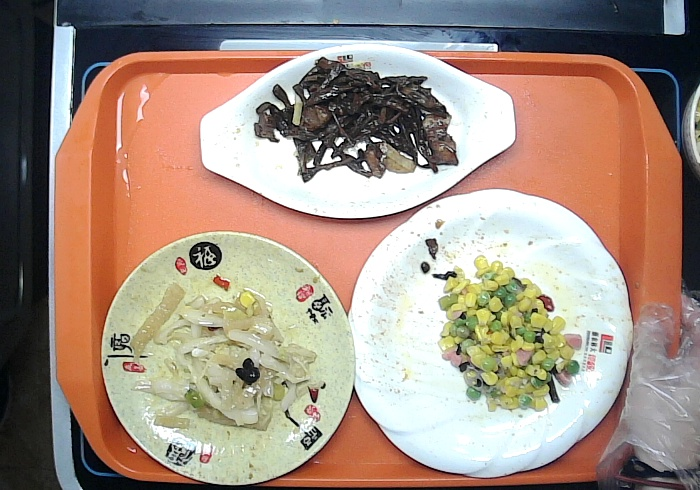NLDX-Bai_Zhe_Yuan_Pan: (344, 182, 641, 483)
NLDX-Fu_Zi_Yuan_Pan: (95, 227, 358, 487)
NLDX-Yu_Pan: (197, 40, 523, 228)
